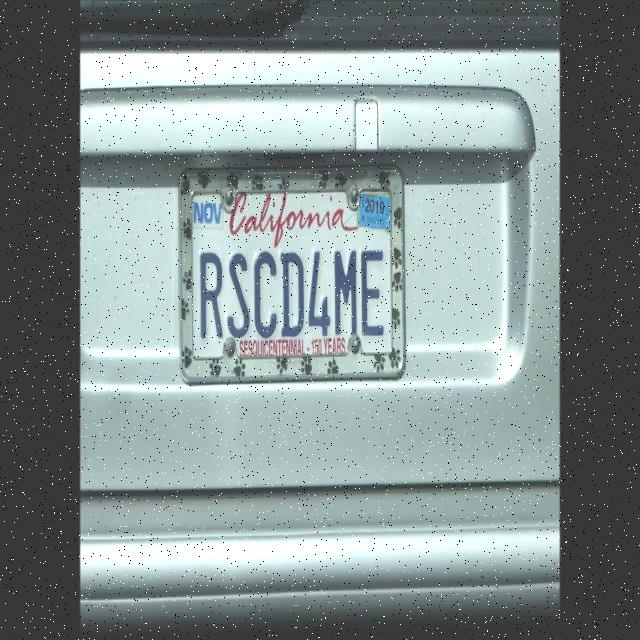licenseplate: (165, 136, 418, 397)
